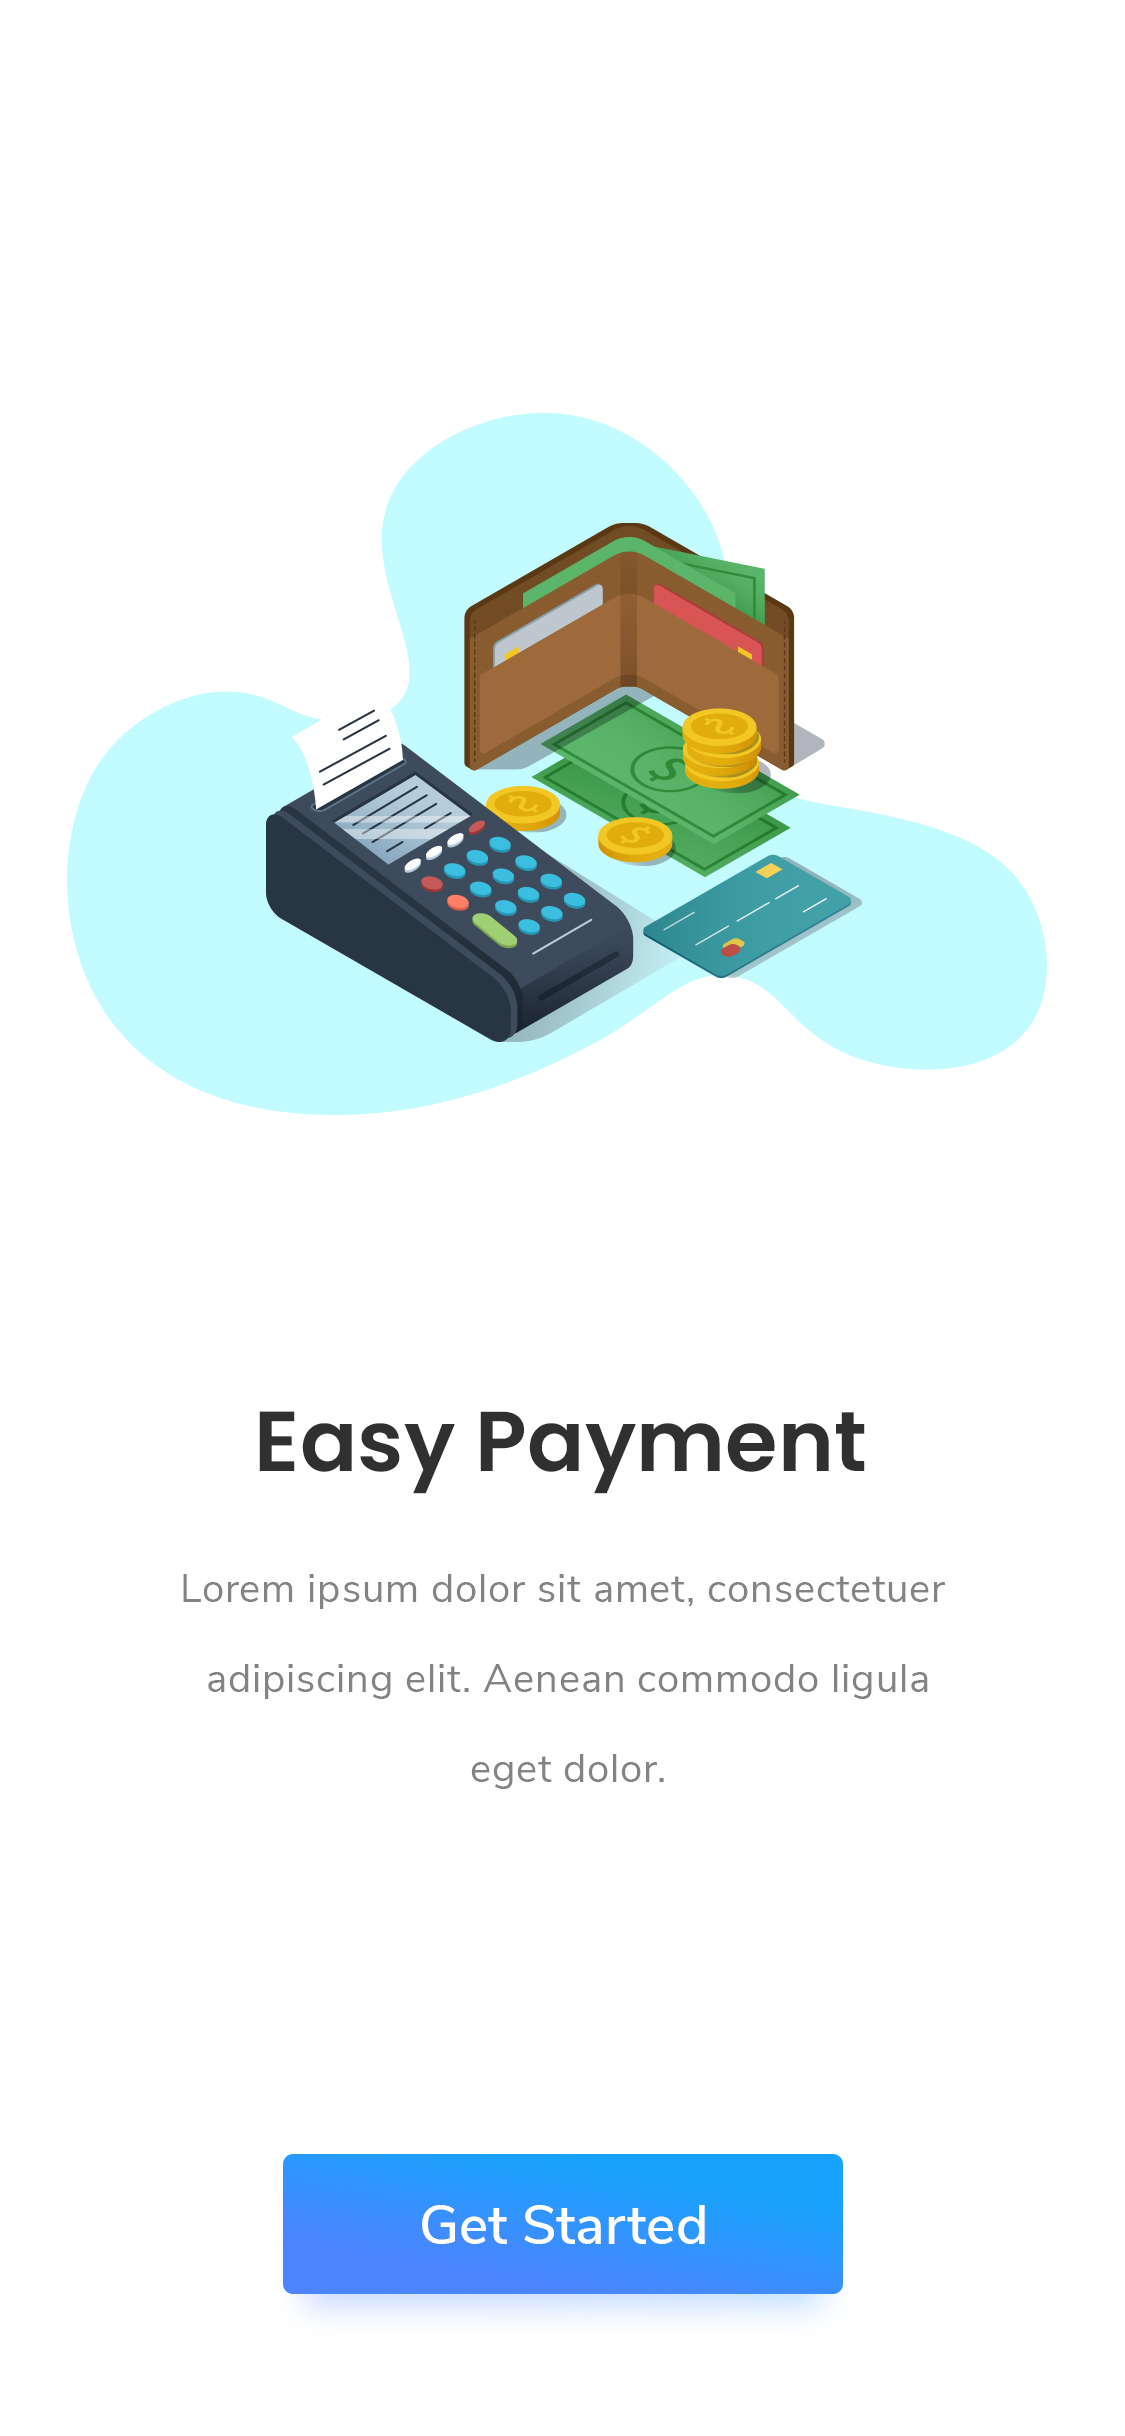Image: (64, 412, 1049, 1119)
Text: (182, 1572, 946, 1791), (258, 1411, 867, 1496)
TextButton: (283, 2153, 844, 2295)
